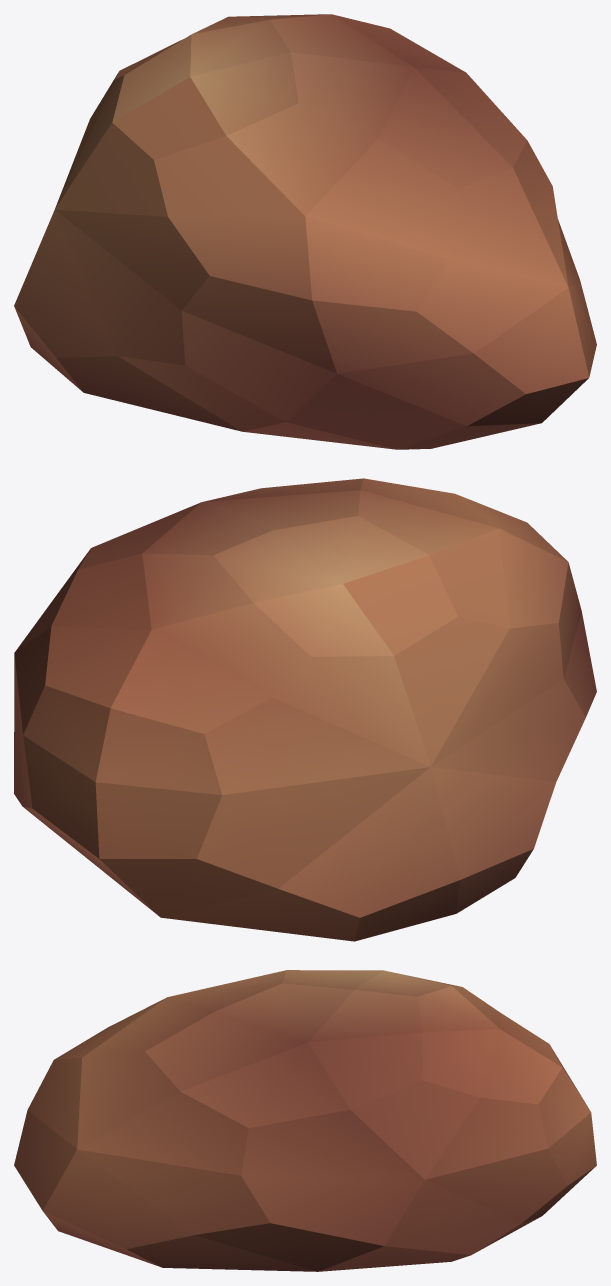
The model's file is Rock.fbx.
3 renders of one model, top to bottom at view 1: azimuth 30°, elevation 25°; view 2: azimuth 150°, elevation 25°; view 3: azimuth 270°, elevation 25°, orthographic. The views are drawn at different scales.
Parts seen in each view (by area): view 1: Rock_01.001; view 2: Rock_01.001; view 3: Rock_01.001.
Boxes of the visible parts, x1,y1,x2,y2 form: Rock_01.001: (14, 14, 596, 449); Rock_01.001: (14, 478, 596, 941); Rock_01.001: (14, 970, 596, 1271).
Bounding box in the file's own units: 1.32 × 0.8265 × 1.76.
